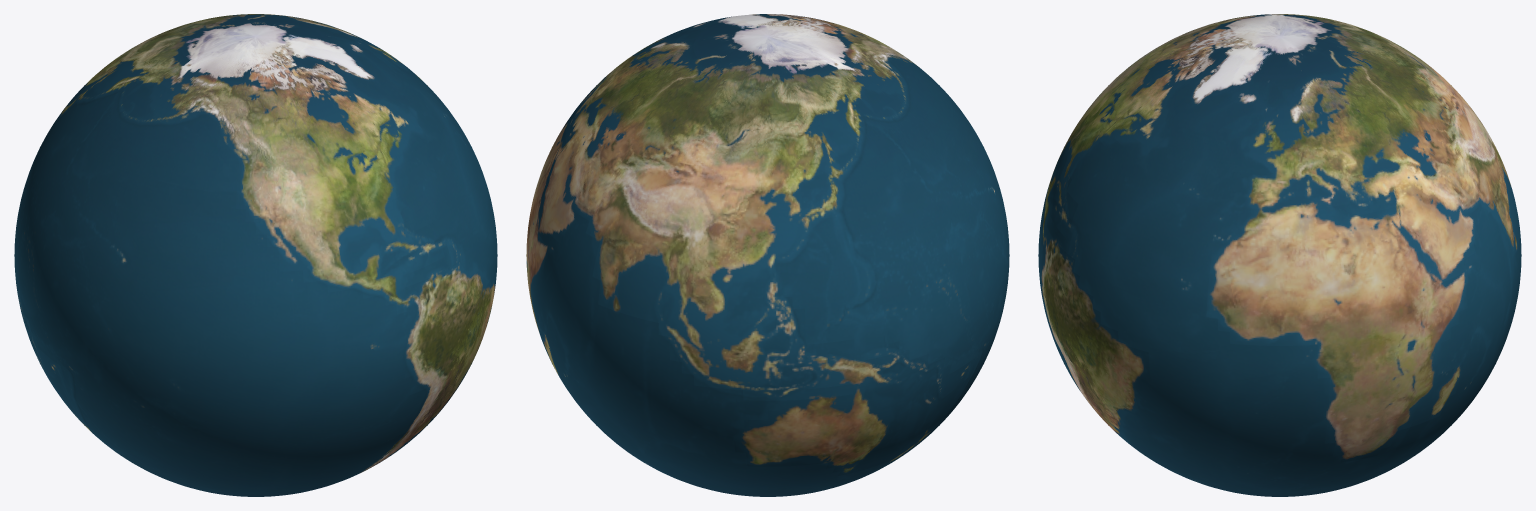
File: world.glb
3 views of the same model, side by side, from view 1: azimuth 30°, elevation 25°; view 2: azimuth 150°, elevation 25°; view 3: azimuth 270°, elevation 25° (orthographic).
Parts seen in each view (by area): view 1: Globe, North America, South America, Asia, Oceania, Europe; view 2: Globe, Asia, Oceania, Europe, North America, Africa; view 3: Globe, Africa, Asia, Europe, North America, South America.
Part boxes in pixels (x1,y1,x2,y2): Globe: (14, 16, 497, 496); North America: (166, 37, 444, 314); South America: (358, 260, 496, 473); Asia: (56, 14, 248, 121); Oceania: (14, 256, 98, 438); Europe: (243, 14, 427, 85); Globe: (532, 15, 1009, 496); Asia: (537, 59, 872, 400); Oceania: (732, 341, 975, 475); Europe: (574, 22, 730, 132); North America: (714, 14, 925, 82); Africa: (526, 91, 590, 381); Globe: (1038, 14, 1521, 496); Africa: (1206, 195, 1467, 462); Asia: (1261, 14, 1520, 283); Europe: (1235, 48, 1414, 209); North America: (1041, 15, 1263, 247); South America: (1041, 226, 1151, 438).
Size of the model in its own units: 4.18 by 4.18 by 4.18.
Materials: 1 (1 with a texture image).
